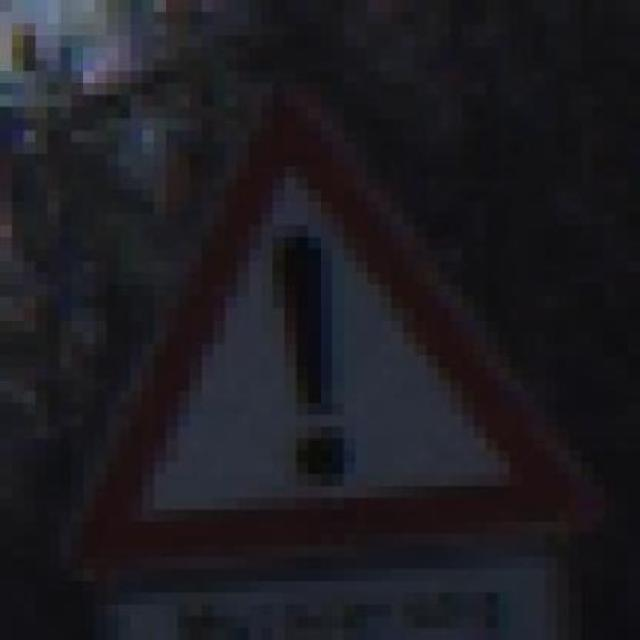Attention Please-: (36, 71, 604, 569)
